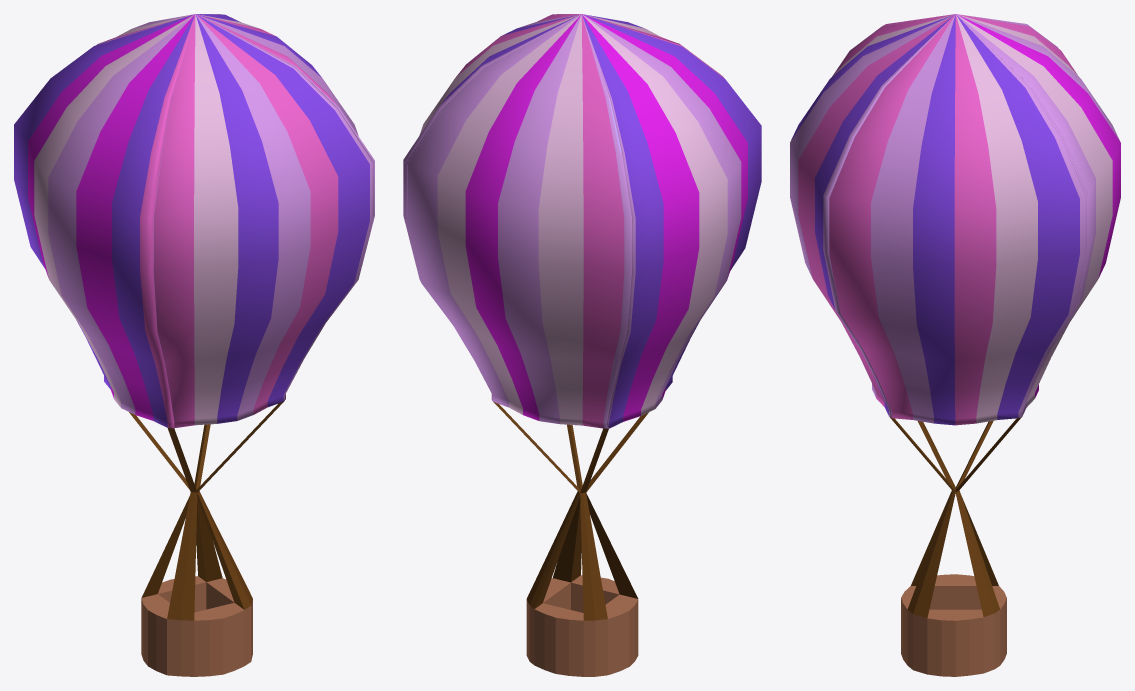
The model's file is AirBalloon.fbx.
3 views of the same model, side by side, from view 1: azimuth 30°, elevation 25°; view 2: azimuth 150°, elevation 25°; view 3: azimuth 270°, elevation 25° (orthographic).
Parts seen in each view (by area): view 1: AirBaloon; view 2: AirBaloon; view 3: AirBaloon.
Part boxes in pixels (<box>): AirBaloon: <box>14,14,374,676</box>; AirBaloon: <box>403,14,761,676</box>; AirBaloon: <box>790,14,1120,676</box>.
Size of the model in its own units: 799 by 1679 by 787.
